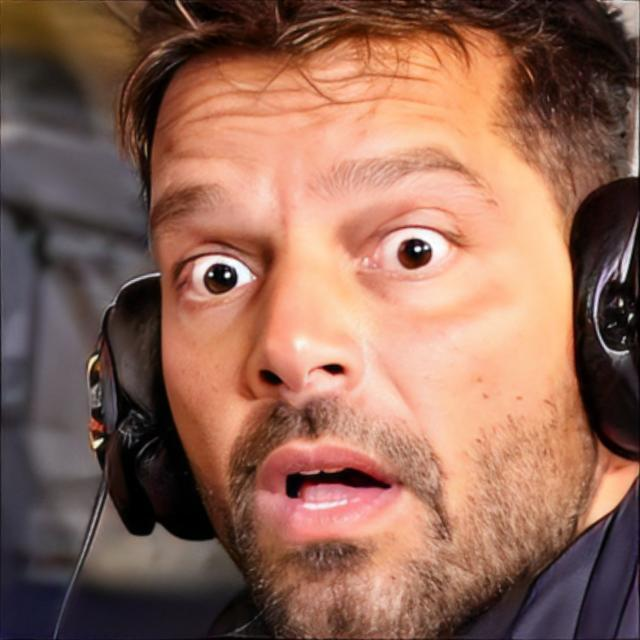Fear: (144, 15, 569, 640)
